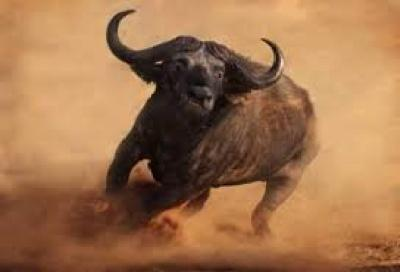buffalo: (106, 9, 317, 234)
